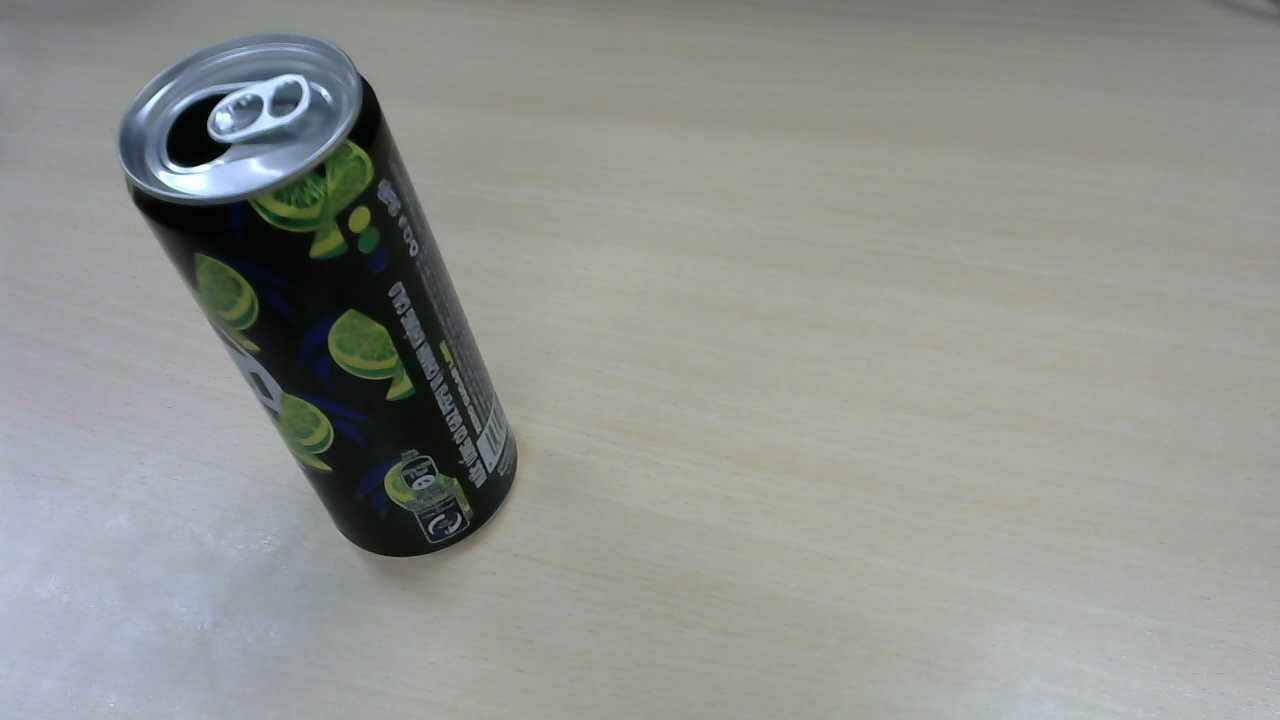Pepsi: (120, 38, 522, 562)
